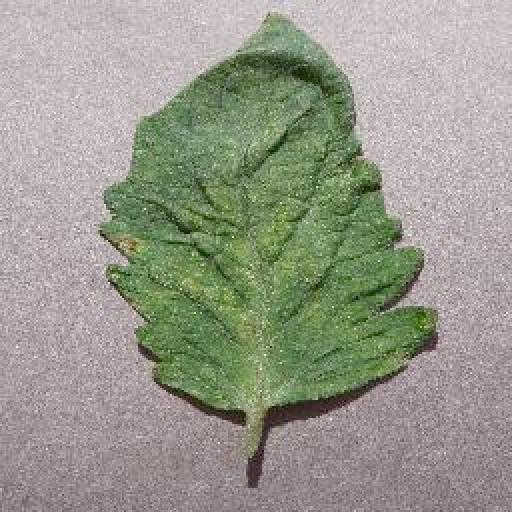disease_tomato: (100, 10, 438, 412)
